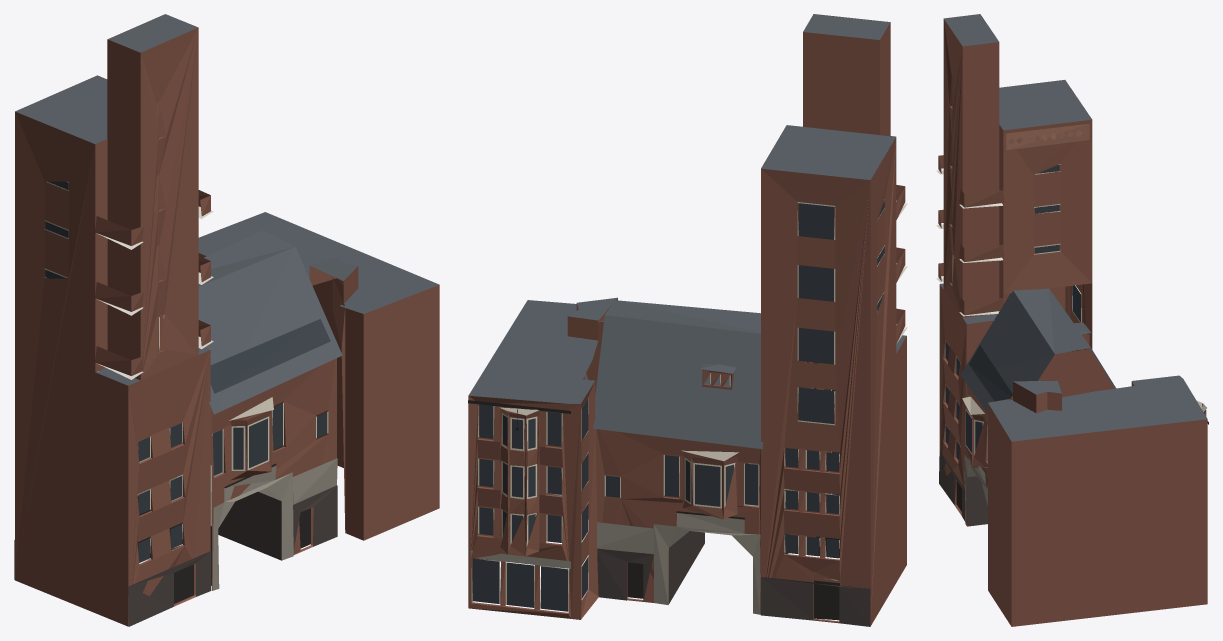
File: mercatorplein-zuidtoren.lod1.glb
3 views of the same model, side by side, from view 1: azimuth 30°, elevation 25°; view 2: azimuth 150°, elevation 25°; view 3: azimuth 270°, elevation 25° (orthographic). The views are drawn at different scales.
Parts seen in each view (by area): view 1: mercatorplein-zuidtoren; view 2: mercatorplein-zuidtoren; view 3: mercatorplein-zuidtoren.
Part boxes in pixels (x1,y1,x2,y2): mercatorplein-zuidtoren: (14, 14, 439, 626); mercatorplein-zuidtoren: (468, 14, 907, 626); mercatorplein-zuidtoren: (936, 14, 1208, 626).
Bounding box in the file's own units: 25.59 × 35.4 × 18.58.
